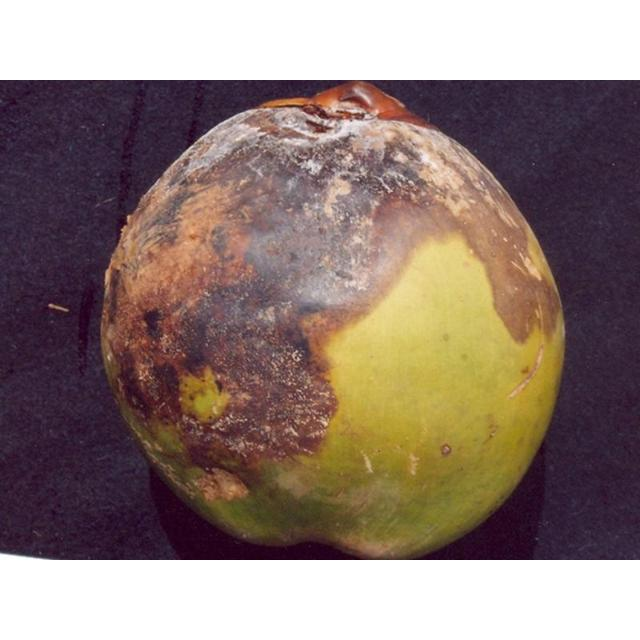damaged: (99, 83, 567, 559)
